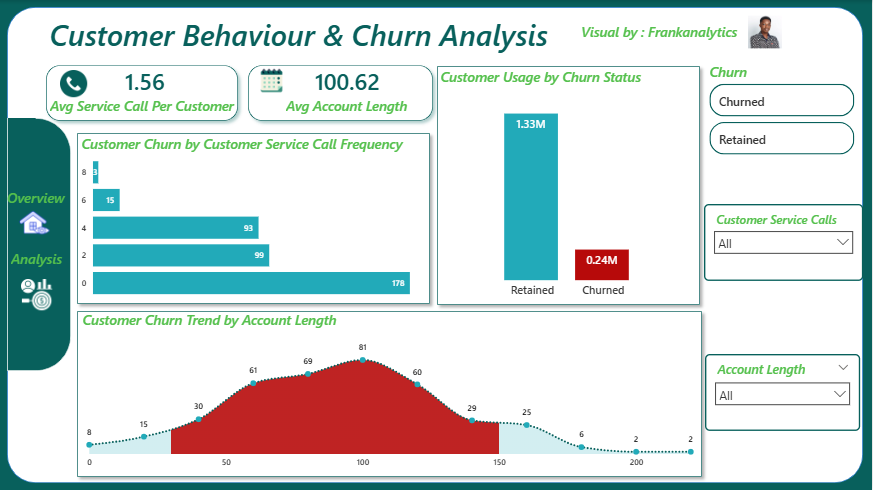

The page's visual inventory and layout, read from the dashboard file:
{"tool":"powerbi","page":{"name":"Churn Analysis","canvas":[1280,720],"ordinal":4},"visuals":[{"type":"shape","box":[10.3,10.3,1257.8,699.4],"z":0},{"type":"shape","box":[10.3,173.4,94,371.8],"z":1000},{"type":"shape","box":[58.8,86.7,299.8,99.9],"z":2000},{"type":"shape","box":[355.6,86.7,289.5,99.9],"z":3000},{"type":"shape","box":[104.3,448.2,936,261.6],"z":4000},{"type":"shape","box":[104.3,186.6,536.3,268.9],"z":5000},{"type":"shape","box":[633.3,88.2,404.1,368.8],"z":6000},{"type":"clusteredBarChart","title":"Customer Churn by Customer Service Call Frequency","fields":{"Category":["churn-bigml-80.Customer Service Calls (bins)"],"Y":["My Measures.Churned Customers"]},"box":[113.9,196.9,520.2,248.3],"z":7000},{"type":"cardVisual","fields":{"Data":["My Measures.Avg Customer Service Calls"]},"box":[154.3,85.2,151.3,64.7],"z":8000},{"type":"cardVisual","fields":{"Data":["My Measures.Avg Account Length"]},"box":[433.5,85.2,157.2,64.7],"z":9000},{"type":"shape","title":"Avg Service Call Per Customer","box":[73.5,141.1,277.7,39.7],"z":10000},{"type":"shape","title":"Avg Account Length","box":[420.2,141.1,232.2,39.7],"z":11000},{"type":"image","box":[379.1,98.4,40,40],"z":12000},{"type":"image","box":[88.2,102.9,39.7,39.7],"z":13000},{"type":"lineChart","title":"Customer Churn Trend by Account Length","fields":{"Y":["My Measures.Churned Customers"],"Category":["churn-bigml-80.Account Length (bins)"]},"box":[116.1,455.5,914,242.4],"z":14000},{"type":"advancedSlicerVisual","fields":{"Values":["churn-bigml-80.Churn"]},"box":[1037.4,91.1,223.3,142.5],"z":15000},{"type":"textbox","box":[67.6,16.2,749.4,80.8],"z":16000},{"type":"shape","title":"Visual by : Frankanalytics","box":[853.7,32.3,242.4,35.3],"z":17000},{"type":"image","box":[1099.1,22,50,50],"z":18000},{"type":"slicer","fields":{"Values":["churn-bigml-80.Customer Service Calls (bins)"]},"box":[1034.4,299.8,233.6,113.1],"z":19000},{"type":"slicer","fields":{"Values":["churn-bigml-80.Account Length (bins)"]},"box":[1035.9,520.2,227.8,113.1],"z":20000},{"type":"image","box":[30.9,410,45.6,45.6],"z":21000},{"type":"shape","title":"Analysis","box":[16.2,365.9,85.2,35.3],"z":22000},{"type":"image","box":[27.9,304.2,45.6,45.6],"z":23000},{"type":"shape","title":"Overview","box":[10.3,276.2,94,35.3],"z":24000},{"type":"clusteredColumnChart","title":"Customer Usage by Churn Status","fields":{"Y":["My Measures.Total Usage"],"Category":["churn-bigml-80.Churn"]},"box":[642.1,98.4,385,348.2],"z":26001}]}

Visuals, with their boxes in screenshot pixels (x1, y1, x2, y2), scaled from the page's 1280x720 canvas onto the 873x490 screenshot:
shape: select_region(7, 7, 865, 483)
shape: select_region(7, 118, 71, 371)
shape: select_region(40, 59, 245, 127)
shape: select_region(243, 59, 440, 127)
shape: select_region(71, 305, 710, 483)
shape: select_region(71, 127, 437, 310)
shape: select_region(432, 60, 708, 311)
"Customer Churn by Customer Service Call Frequency" clusteredBarChart: select_region(78, 134, 432, 303)
cardVisual - My Measures.Avg Customer Service Calls: select_region(105, 58, 208, 102)
cardVisual - My Measures.Avg Account Length: select_region(296, 58, 403, 102)
"Avg Service Call Per Customer" shape: select_region(50, 96, 240, 123)
"Avg Account Length" shape: select_region(287, 96, 445, 123)
image: select_region(259, 67, 286, 94)
image: select_region(60, 70, 87, 97)
"Customer Churn Trend by Account Length" lineChart: select_region(79, 310, 703, 475)
advancedSlicerVisual - churn-bigml-80.Churn: select_region(708, 62, 860, 159)
textbox: select_region(46, 11, 557, 66)
"Visual by : Frankanalytics" shape: select_region(582, 22, 748, 46)
image: select_region(750, 15, 784, 49)
slicer - churn-bigml-80.Customer Service Calls (bins): select_region(705, 204, 865, 281)
slicer - churn-bigml-80.Account Length (bins): select_region(707, 354, 862, 431)
image: select_region(21, 279, 52, 310)
"Analysis" shape: select_region(11, 249, 69, 273)
image: select_region(19, 207, 50, 238)
"Overview" shape: select_region(7, 188, 71, 212)
"Customer Usage by Churn Status" clusteredColumnChart: select_region(438, 67, 701, 304)
